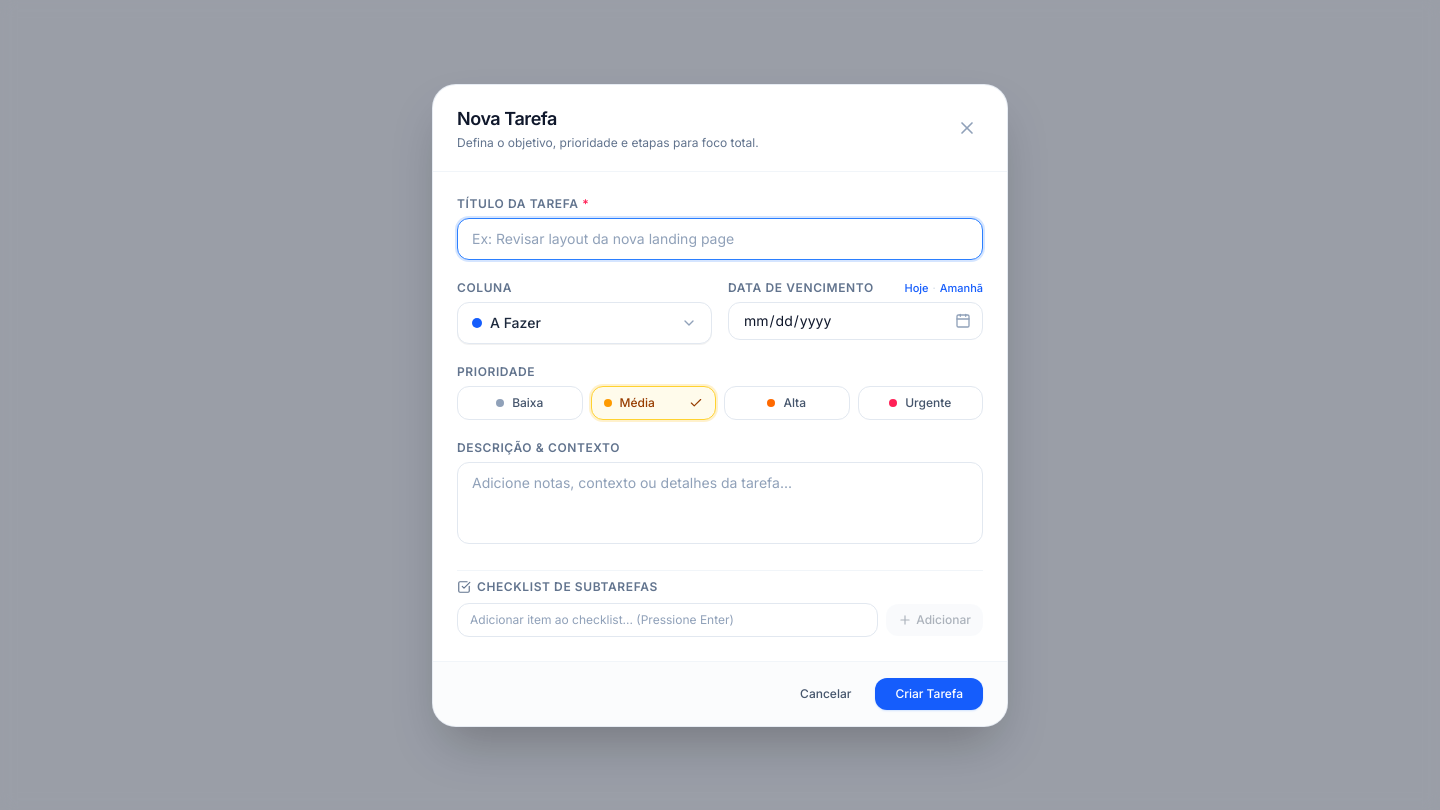
TaskModal › exibe diálogo de confirmação ao tentar fechar via botão Cancelar com alterações não salvas
The image size is (1440, 810).
Step 1. Type "Alteração em andamento" into the field with placeholder "Ex: Revisar layout da nova landing page" → {"x": 720, "y": 238}, box [457,218,983,260]
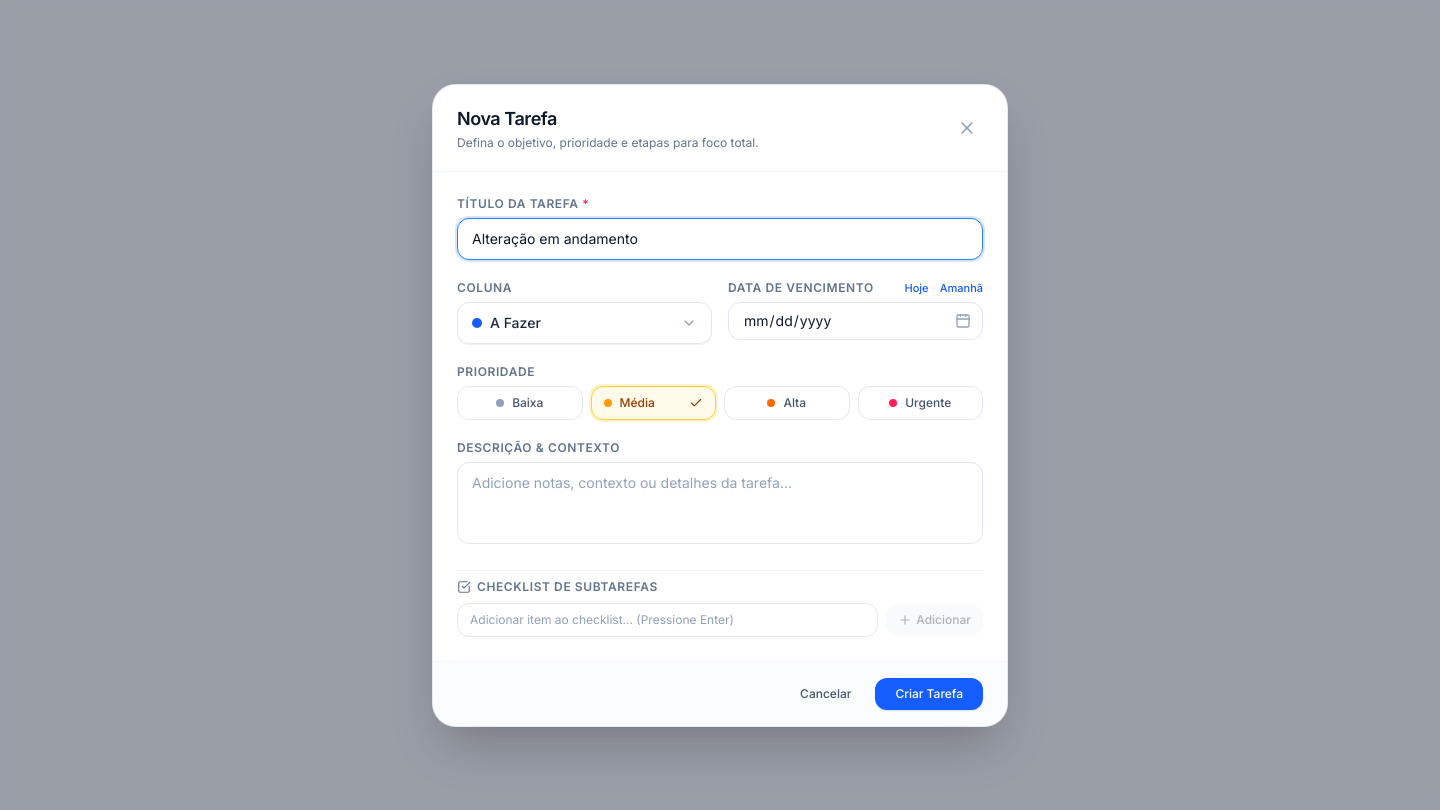
Step 2. Click the button "Cancelar" → {"x": 826, "y": 694}, box [784,678,867,710]
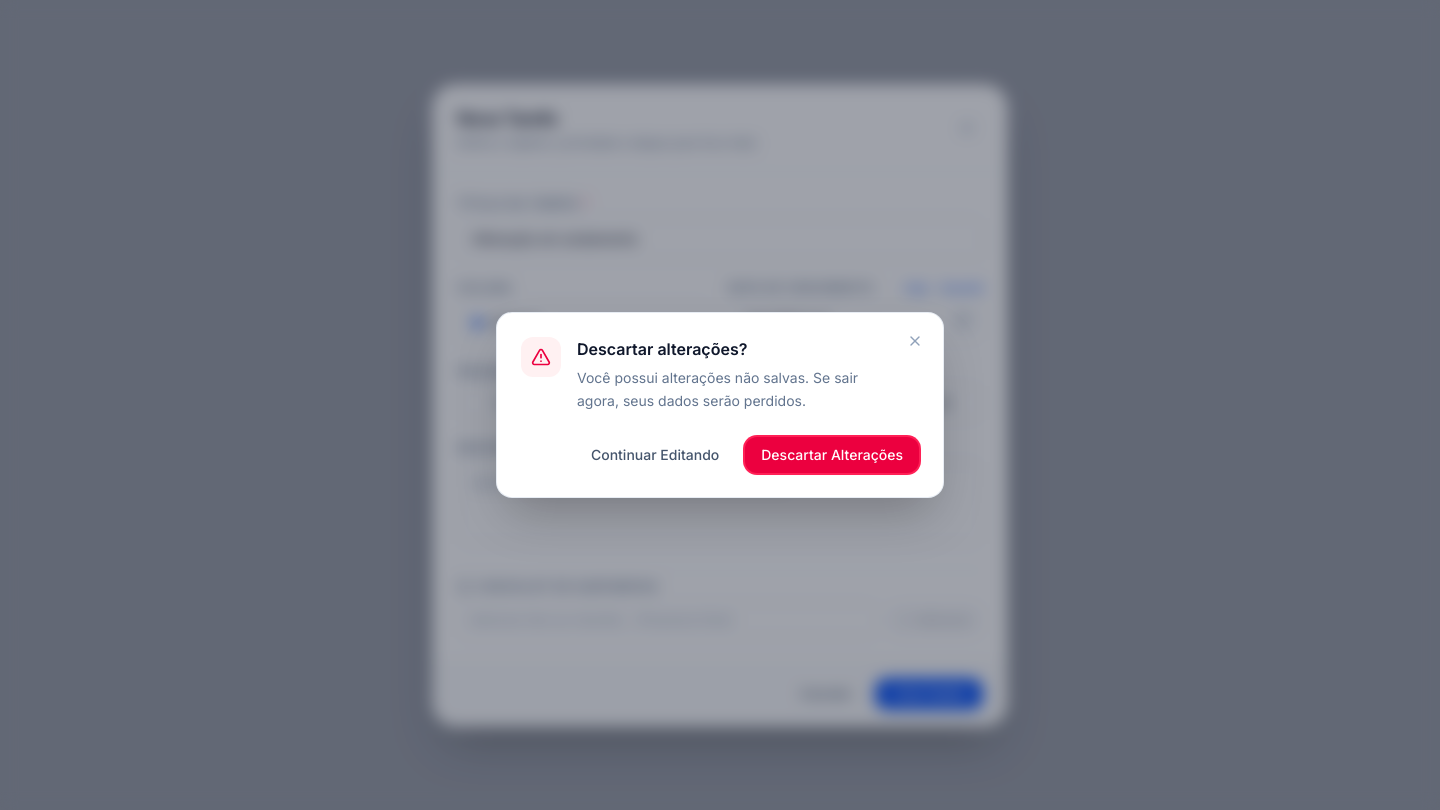
Expected: the heading "Descartar alterações?" is shown, [577,339,747,359]
